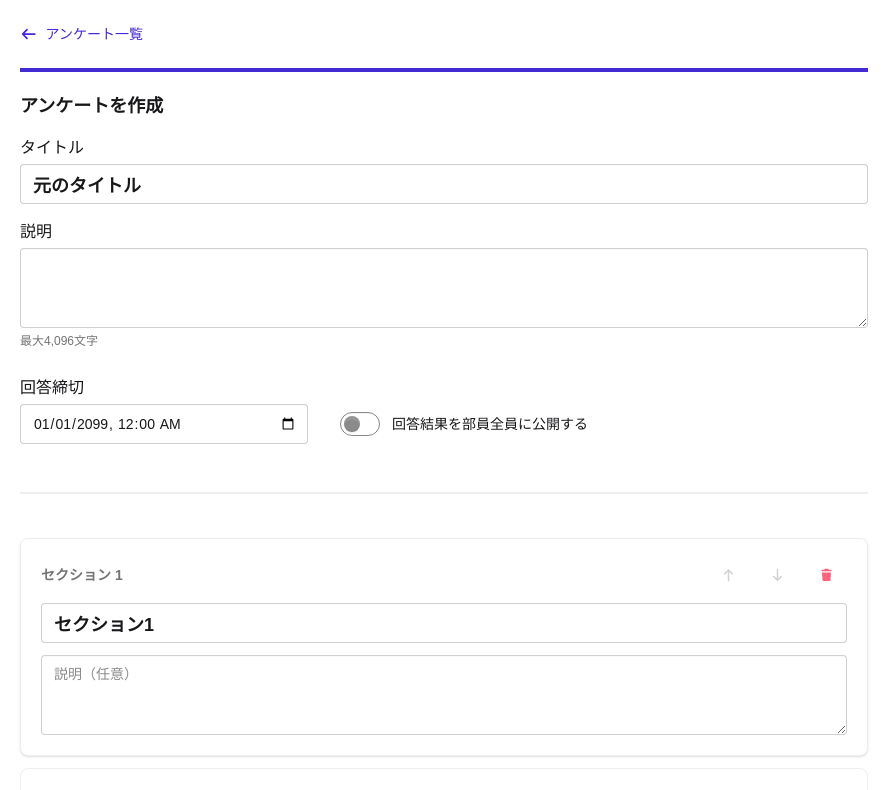
作成中のアンケート › 公開時にタイトルと締切のエラーを各入力欄の直下へ出す
Clear the field labelled "タイトル" at coordinates (444, 184), box [20, 164, 868, 204]
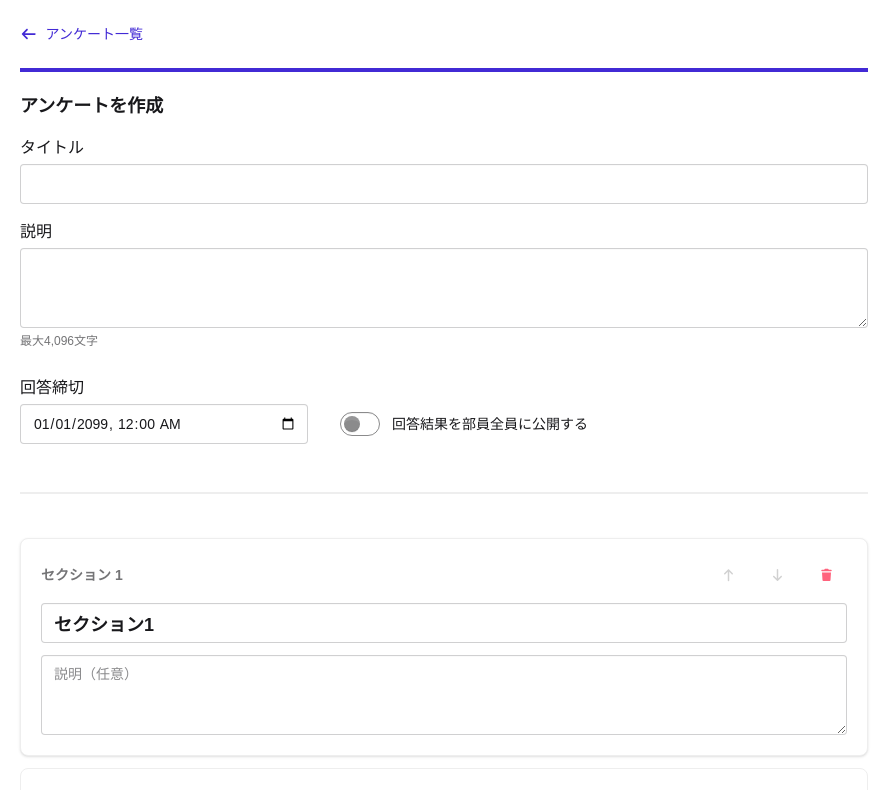
Clear the field labelled "回答締切" at coordinates (164, 424), box [20, 404, 308, 444]
(page scrolled)
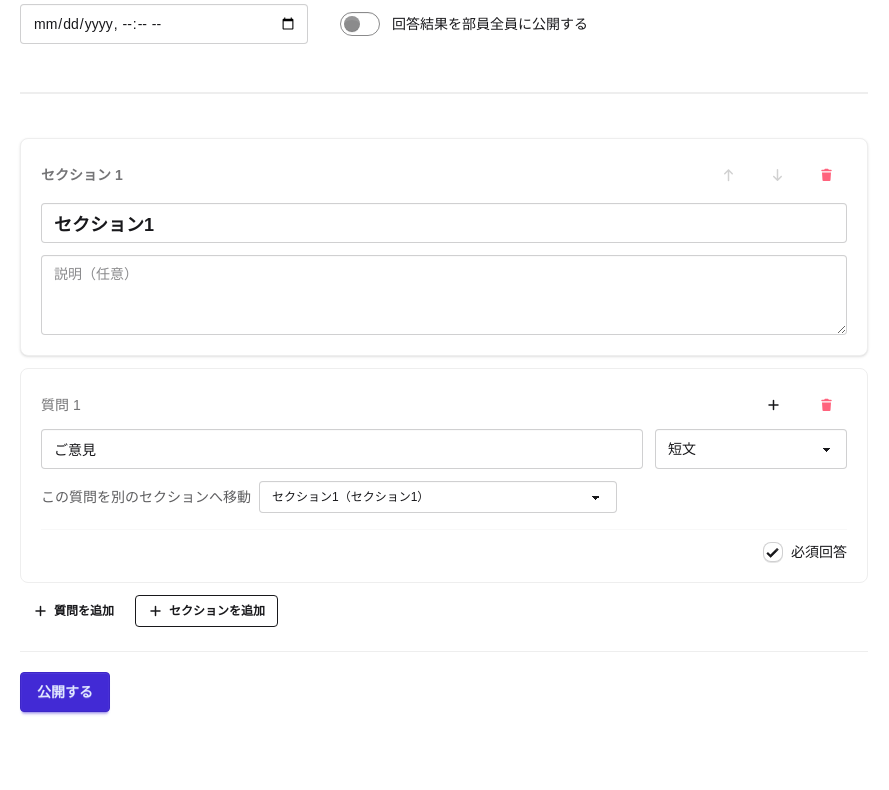
Click the button "公開する" at coordinates (65, 692), box [20, 672, 110, 712]
(page scrolled)
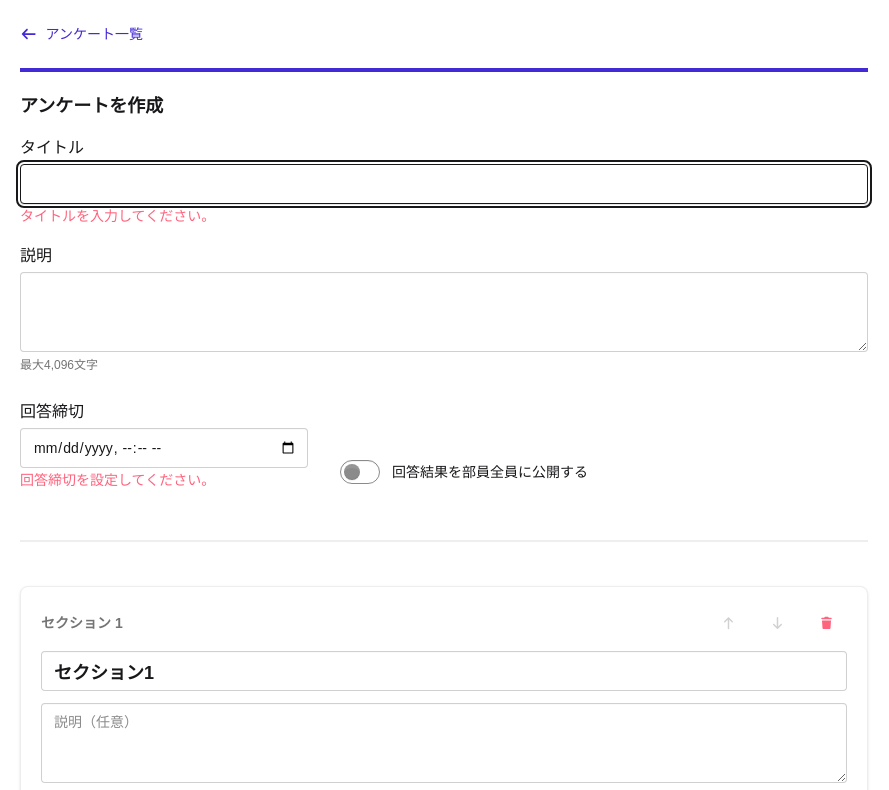
Result: the text "タイトルを入力してください。" is shown at [20, 208, 215, 224]
Result: the text "回答締切を設定してください。" is shown at [20, 472, 215, 488]
